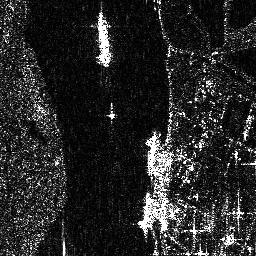ship: (95, 16, 114, 67), (138, 191, 154, 235), (146, 133, 160, 176)
